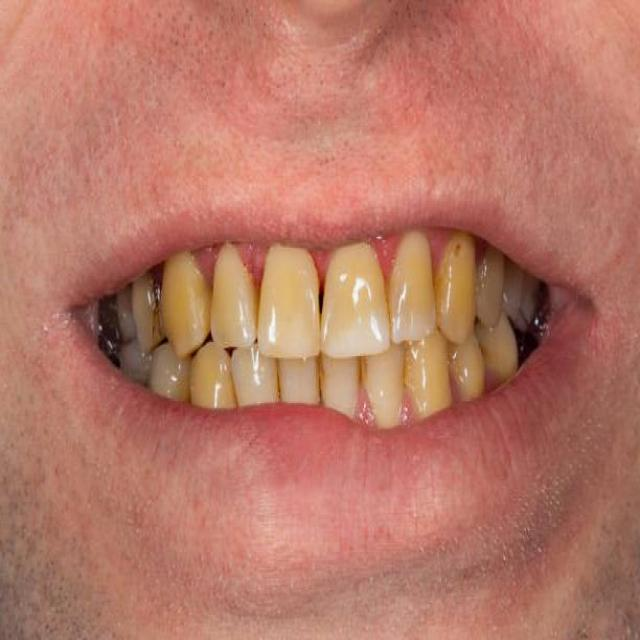caries: (96, 295, 125, 346), (143, 273, 162, 340)
